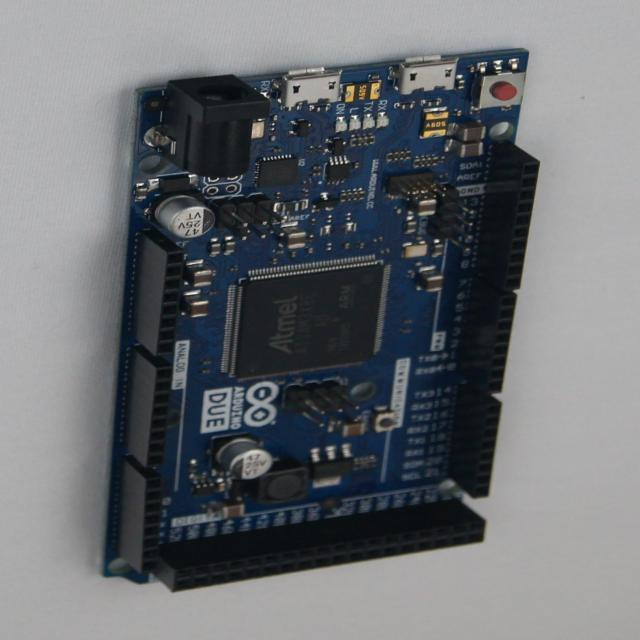Arduino-Due: (105, 49, 539, 592)
